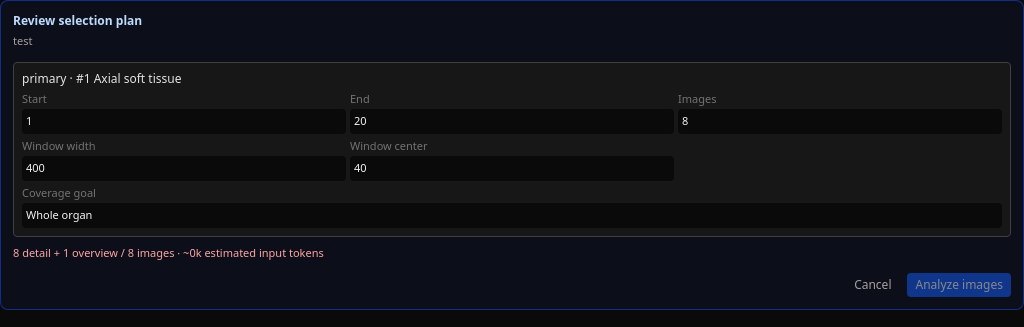
Test: PlanPreview › accounts for its overview montage and prevents a plan above the approved image budget
The width and height of the screenshot is (1024, 327).
Check: the button "Analyze images" is disabled, box top-left (908, 273), bottom-right (1011, 297)
Replace the text in the number field labelled "Images" with "7". click: (840, 121)
box: top-left (678, 109), bottom-right (1002, 134)
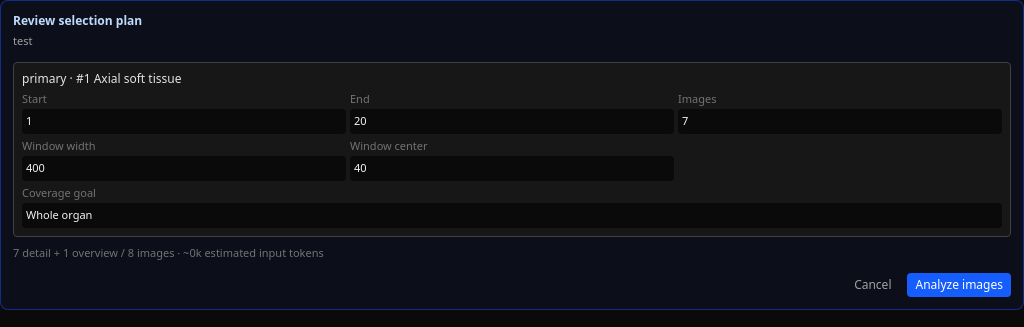
Check: the button "Analyze images" is enabled, box top-left (908, 273), bottom-right (1011, 297)
